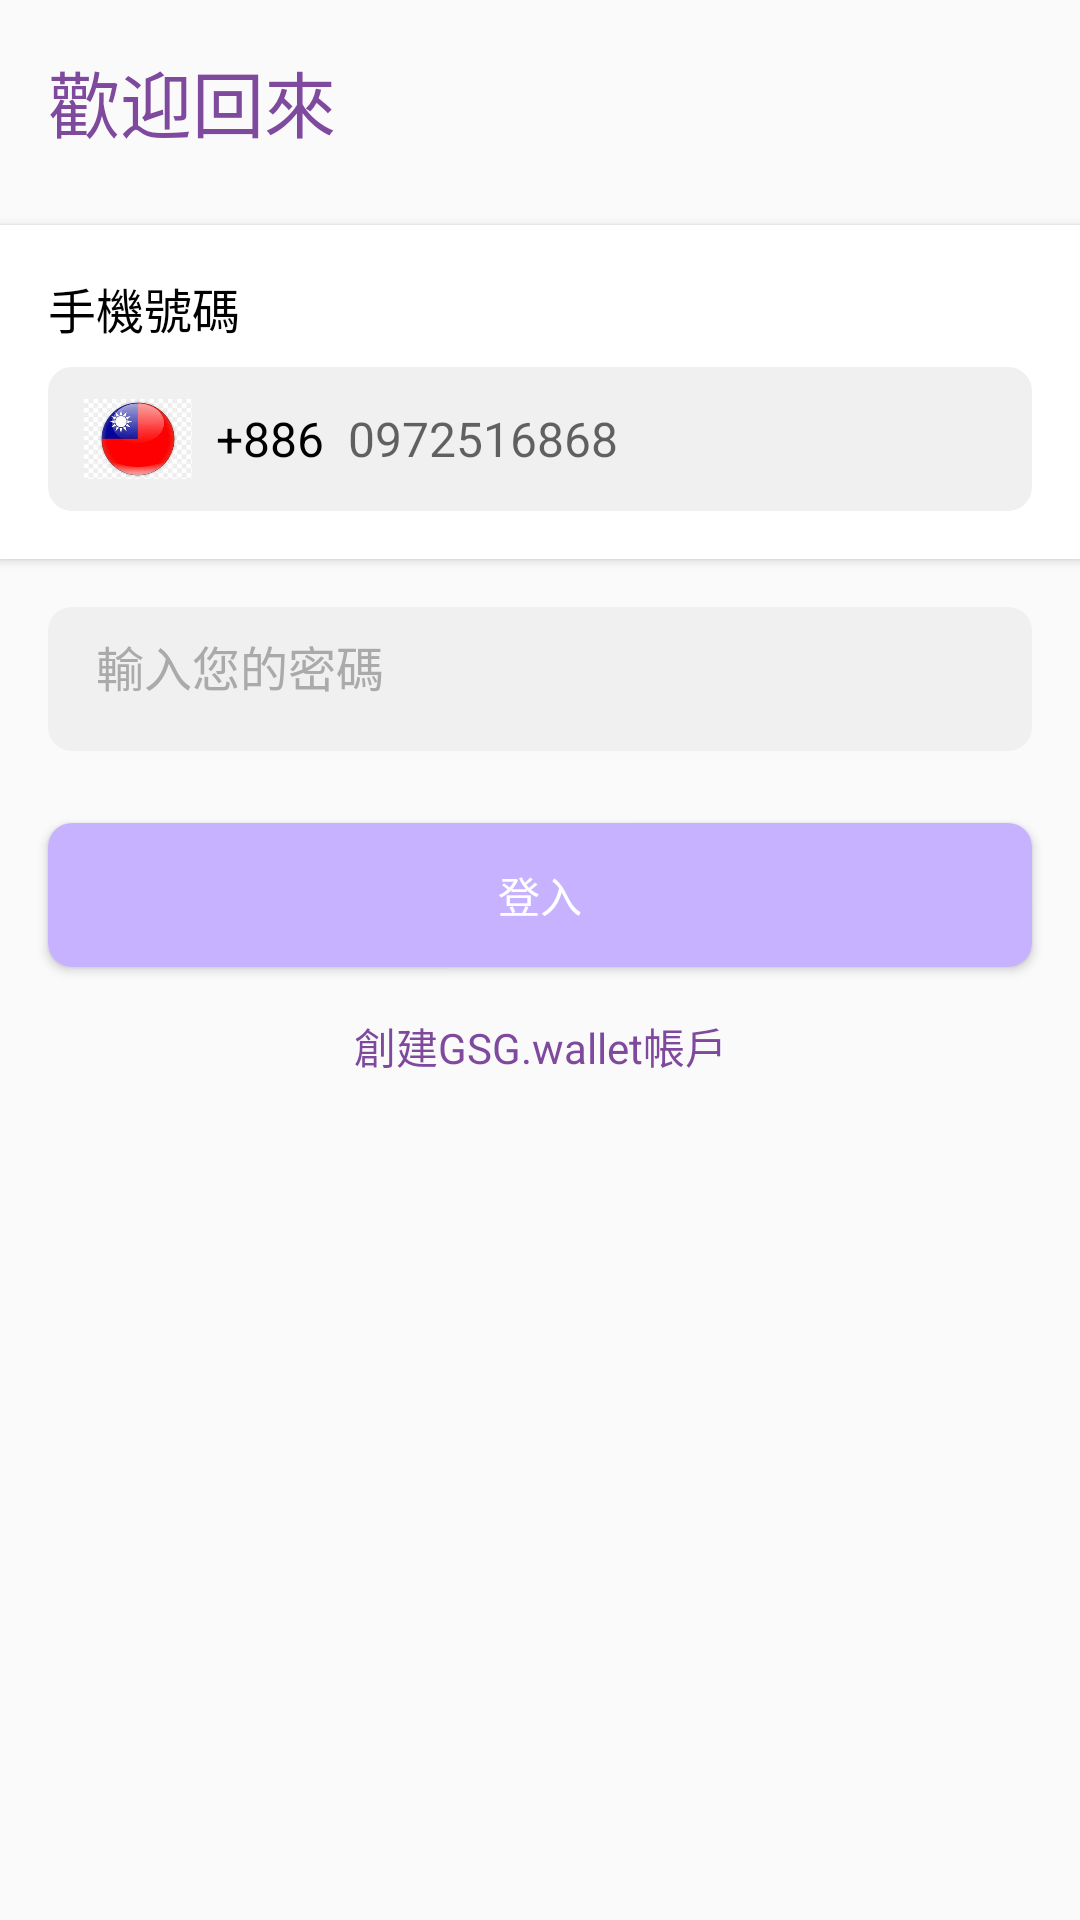

Named icons in this screenshot (1080*1920) and their centers, [x,y]:
flag taiwan: [137,439]
